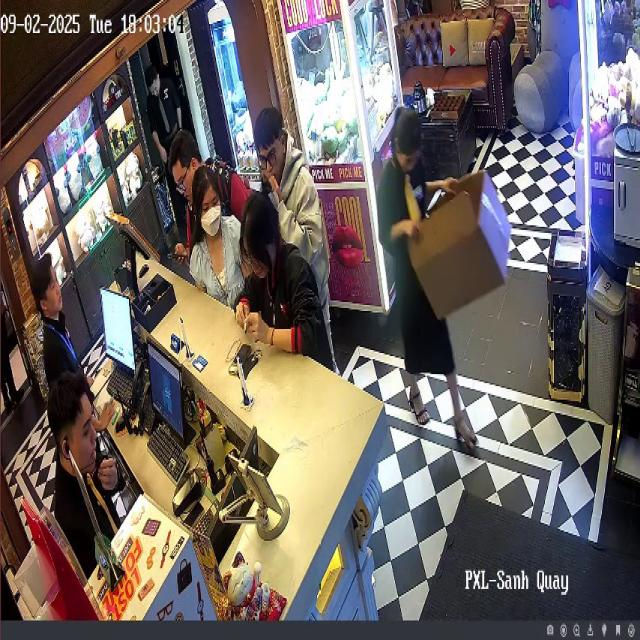khach: (248, 108, 334, 356), (239, 191, 332, 369), (164, 124, 251, 293), (190, 160, 250, 319)
nhan vien: (382, 99, 505, 460), (22, 238, 96, 448), (44, 357, 116, 571), (145, 46, 203, 235)
